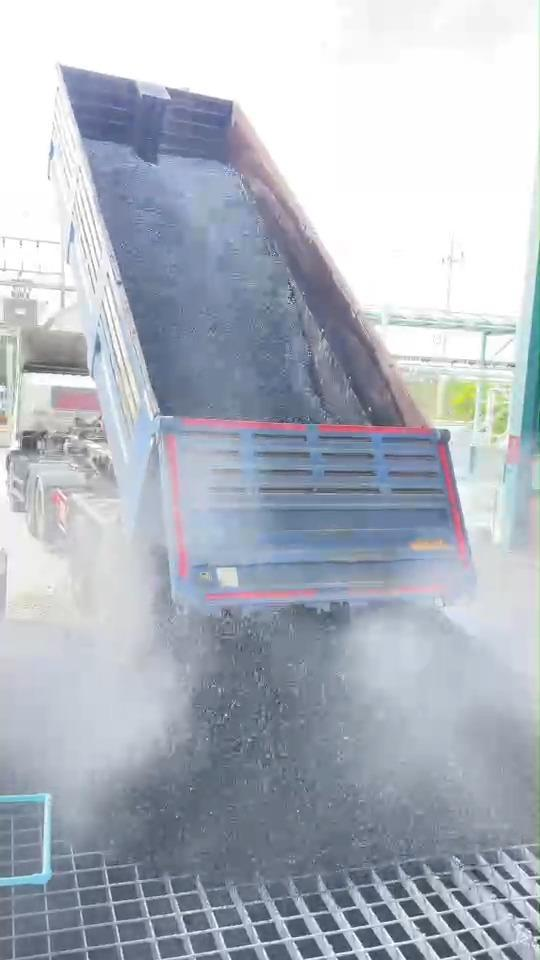gravel: (101, 604, 537, 879), (85, 140, 365, 421)
